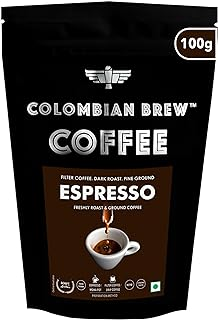Coffee: (1, 4, 204, 316)
